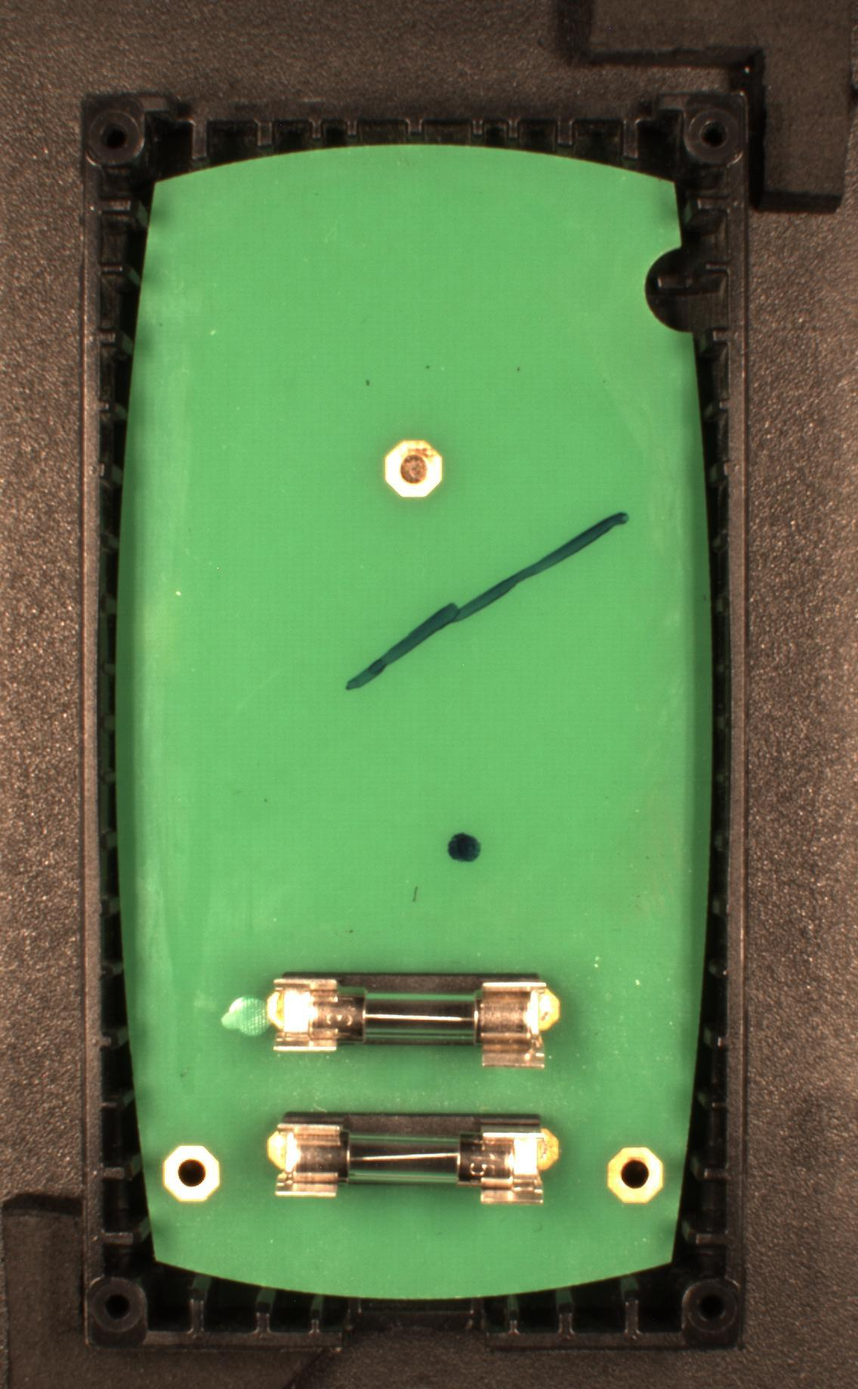Linijsko Ostecene: (340, 508, 632, 704)
Tockasto Ostecenje: (445, 827, 484, 865)
